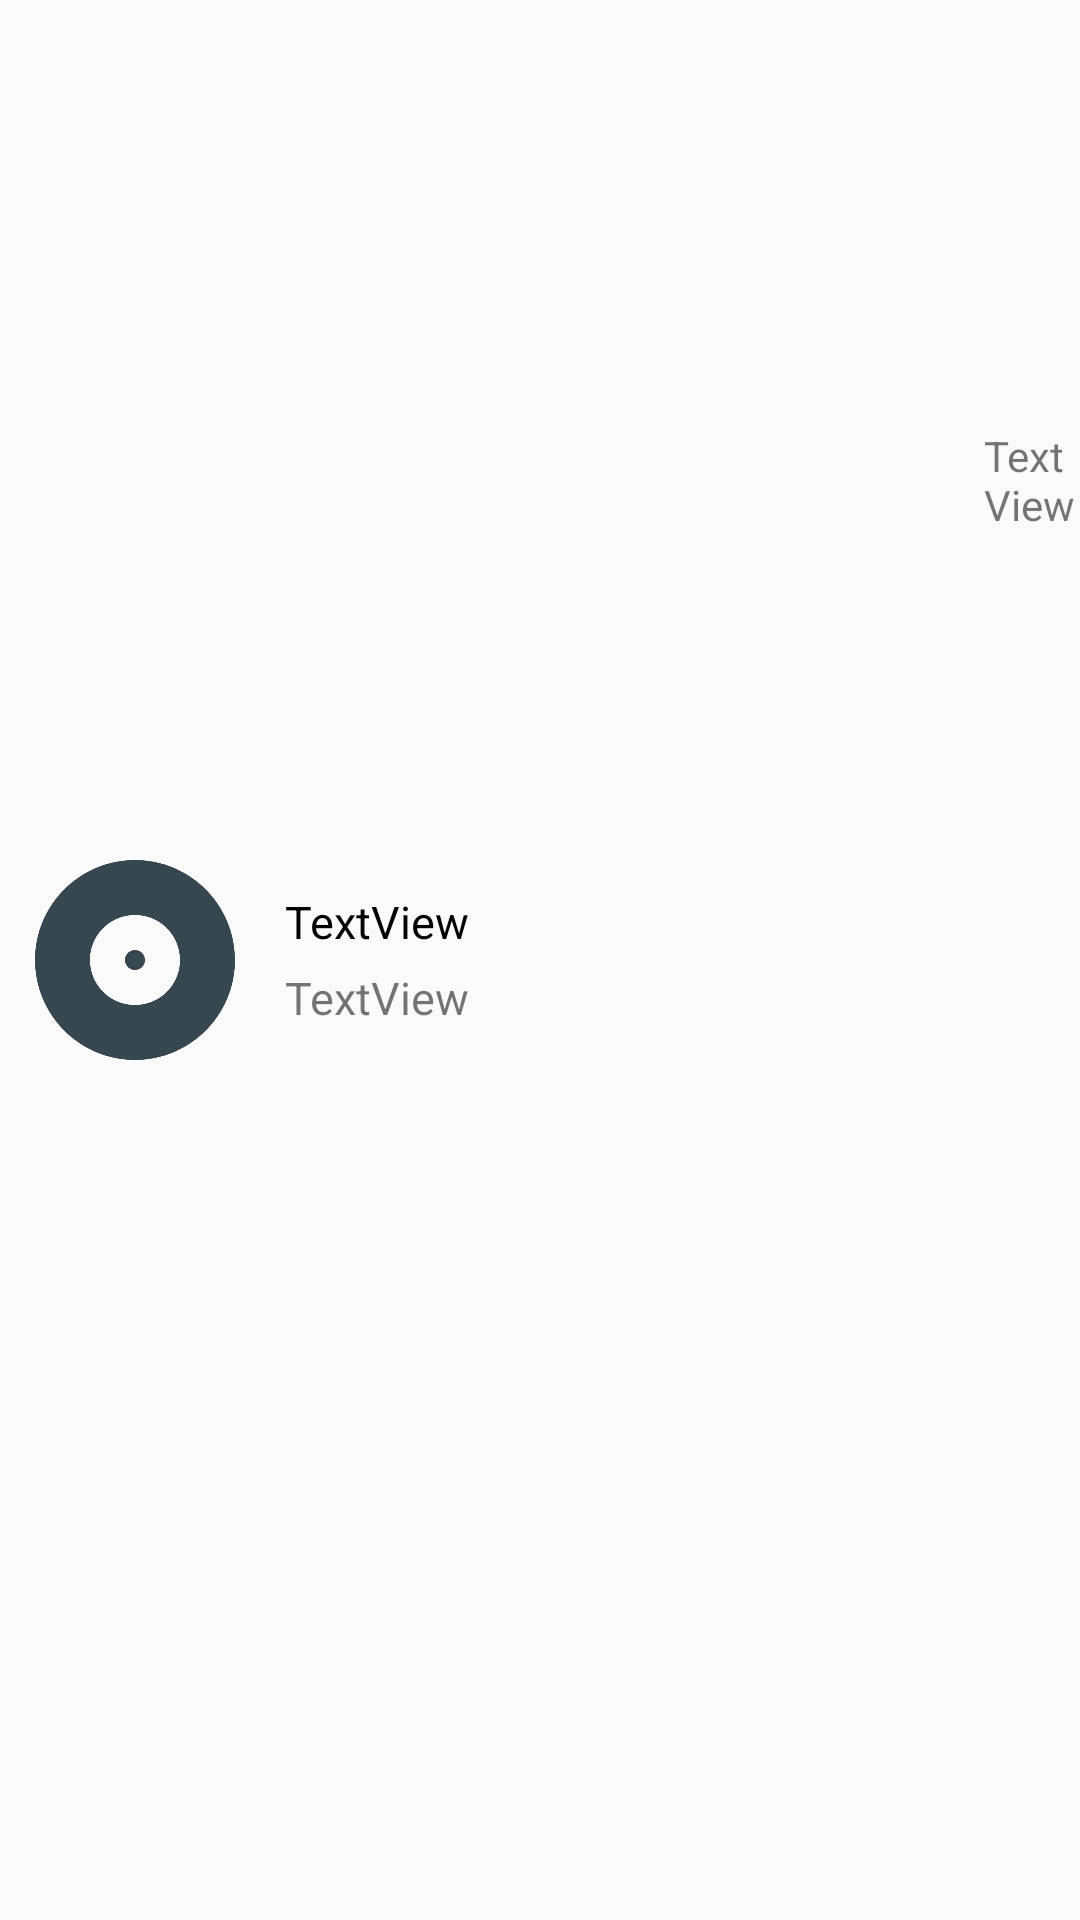

Screen size 1080 x 1920. Icon name, then its box in pixels as bbox=[x1, y1, x2, y2]:
album: bbox=[35, 860, 235, 1060]
